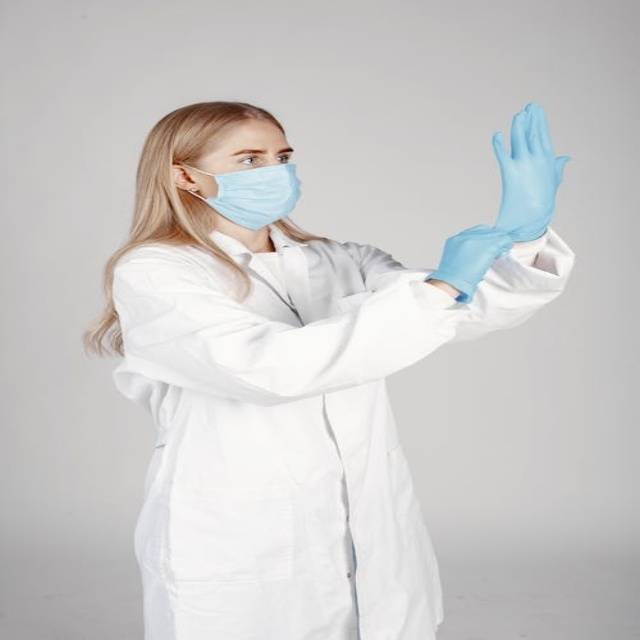Guantes: (483, 101, 572, 244), (424, 223, 519, 303)
Mascara: (185, 161, 301, 229)
Sin_gafas: (216, 144, 301, 173)
